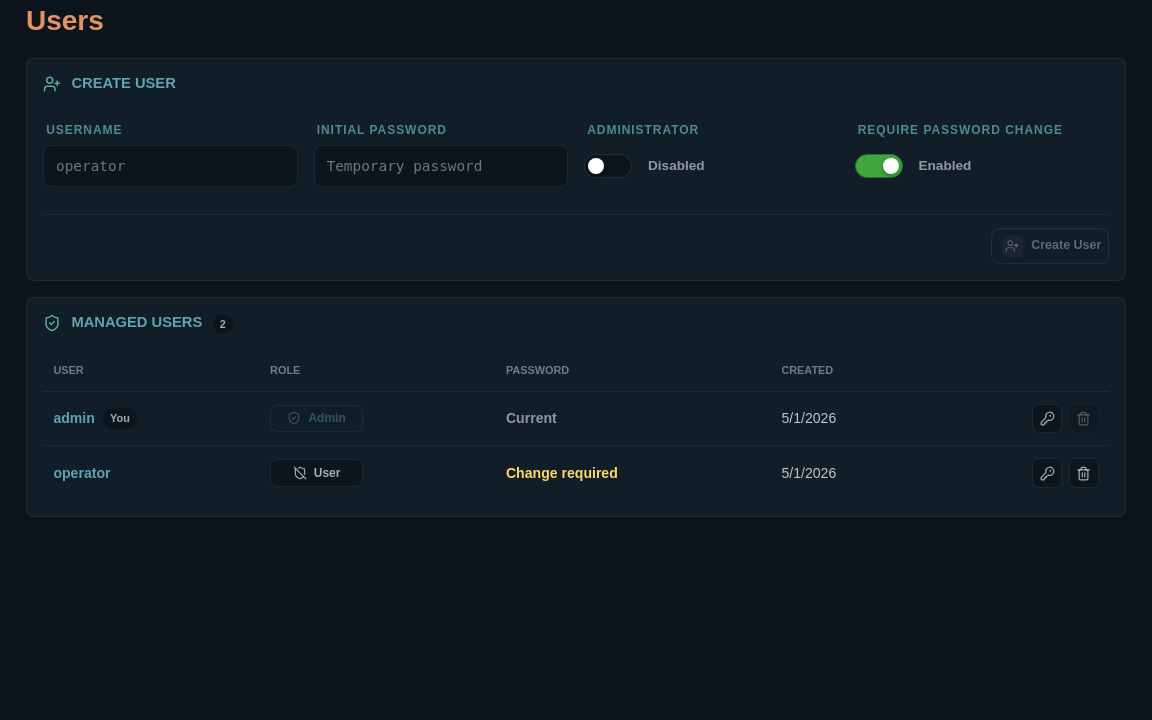
Test: users page › requires a username and password before creating a user
Expected: the text "operator" is shown, x1=53 y1=462 x2=110 y2=484
Expected: the button "Create User" is disabled, x1=991 y1=228 x2=1109 y2=264
Type "builder" into the field labelled "Username" at (170, 166), box x1=56 y1=146 x2=284 y2=186
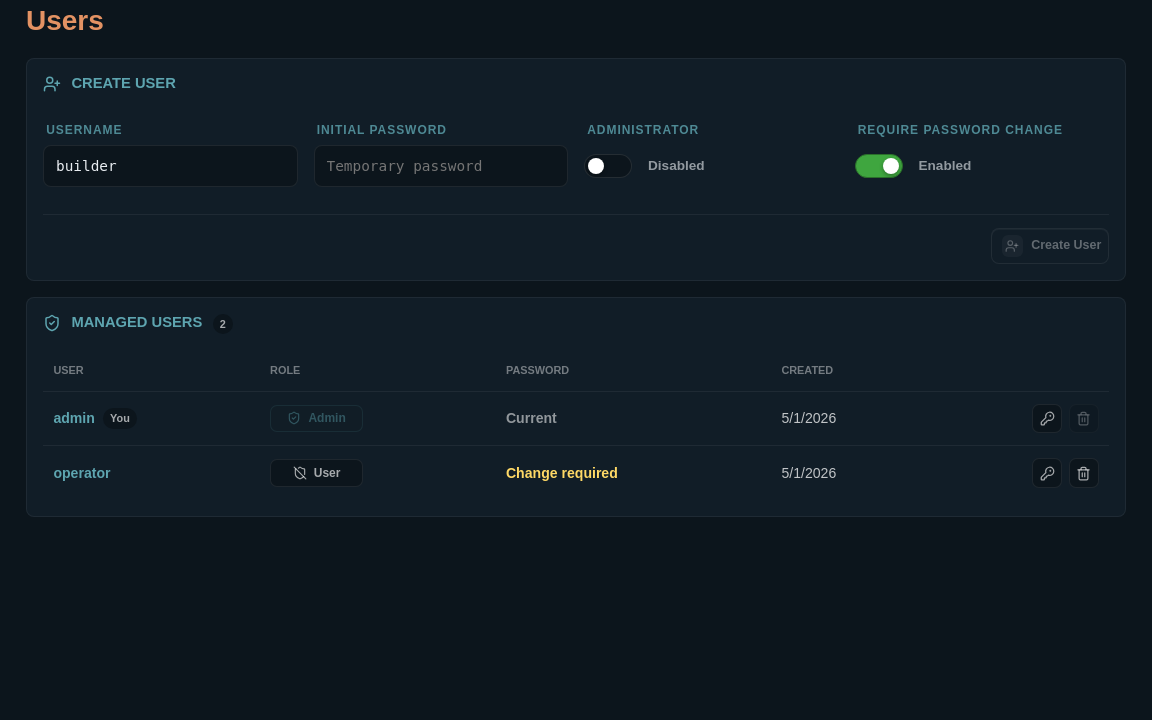
Expected: the button "Create User" is disabled, x1=991 y1=228 x2=1109 y2=264
Type "generated-password" into the password field labelled "Initial Password" at (441, 166), box x1=326 y1=146 x2=555 y2=186
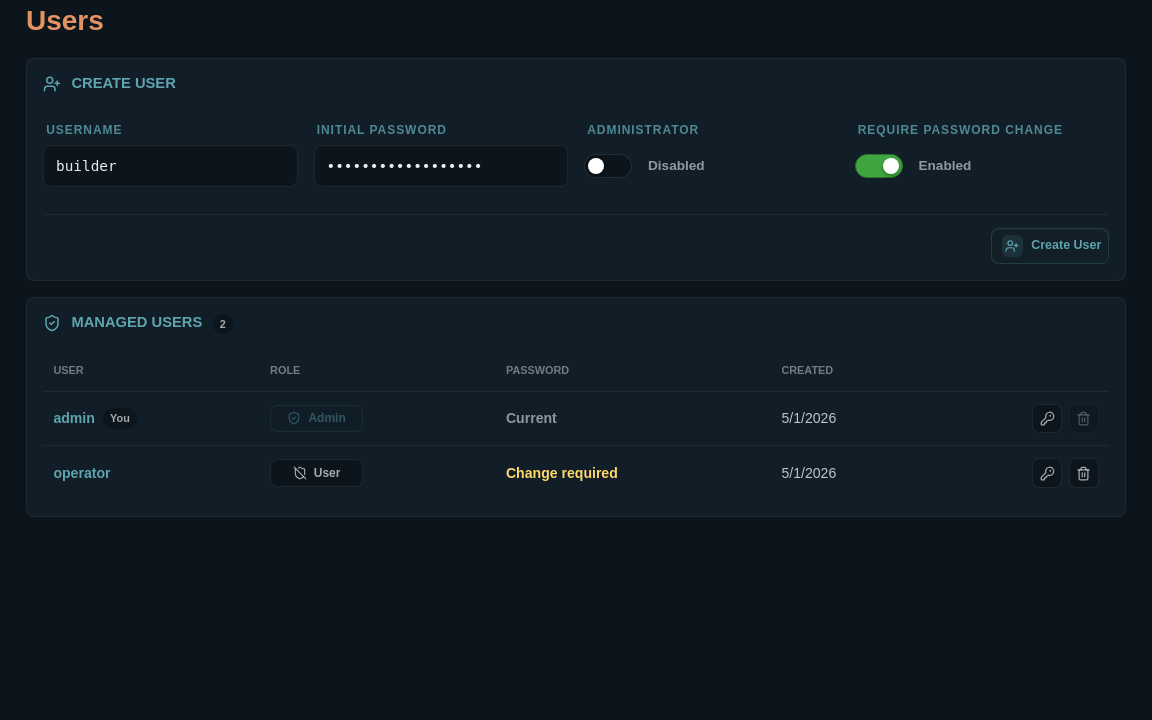
Expected: the button "Create User" is enabled, x1=991 y1=228 x2=1109 y2=264
